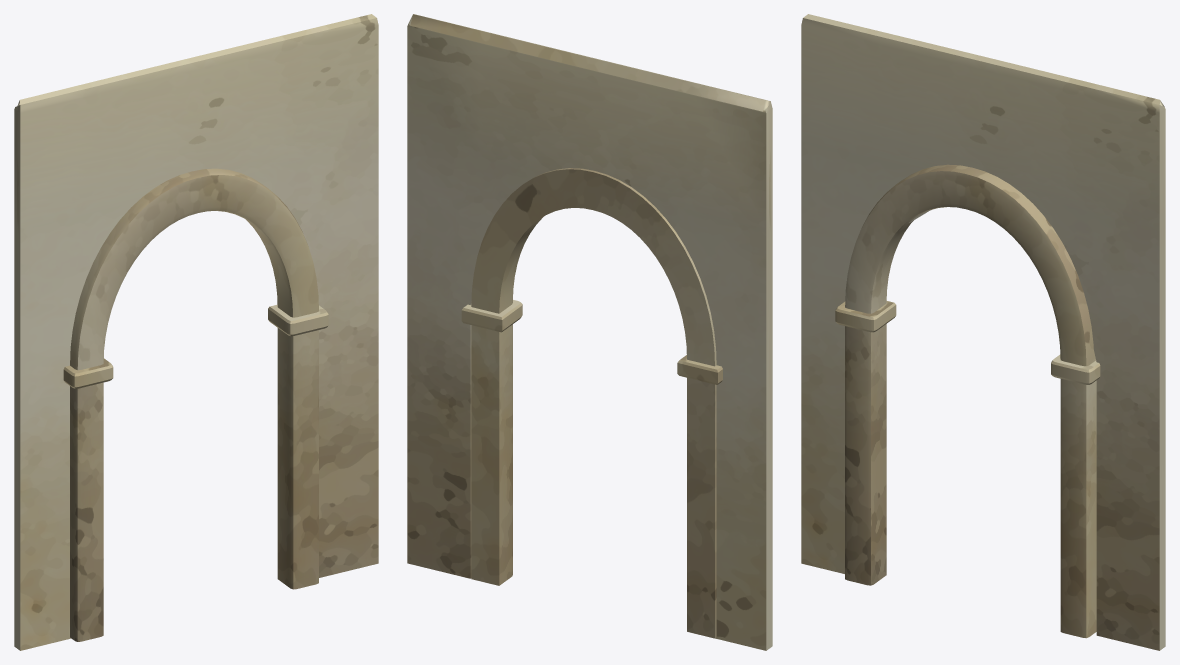
Rendered from Wall_w_Arch.FBX.
3 renders of one model, left to right at view 1: azimuth 30°, elevation 25°; view 2: azimuth 150°, elevation 25°; view 3: azimuth 330°, elevation 25°, orthographic.
Visible parts, largest first — view 1: Object064; view 2: Object064; view 3: Object064.
Boxes of the visible parts, bbox=[...] form: Object064: bbox=[14, 14, 378, 650]; Object064: bbox=[407, 14, 772, 650]; Object064: bbox=[801, 14, 1165, 650].
Bounding box in the file's own units: 160 × 233 × 16.92.
